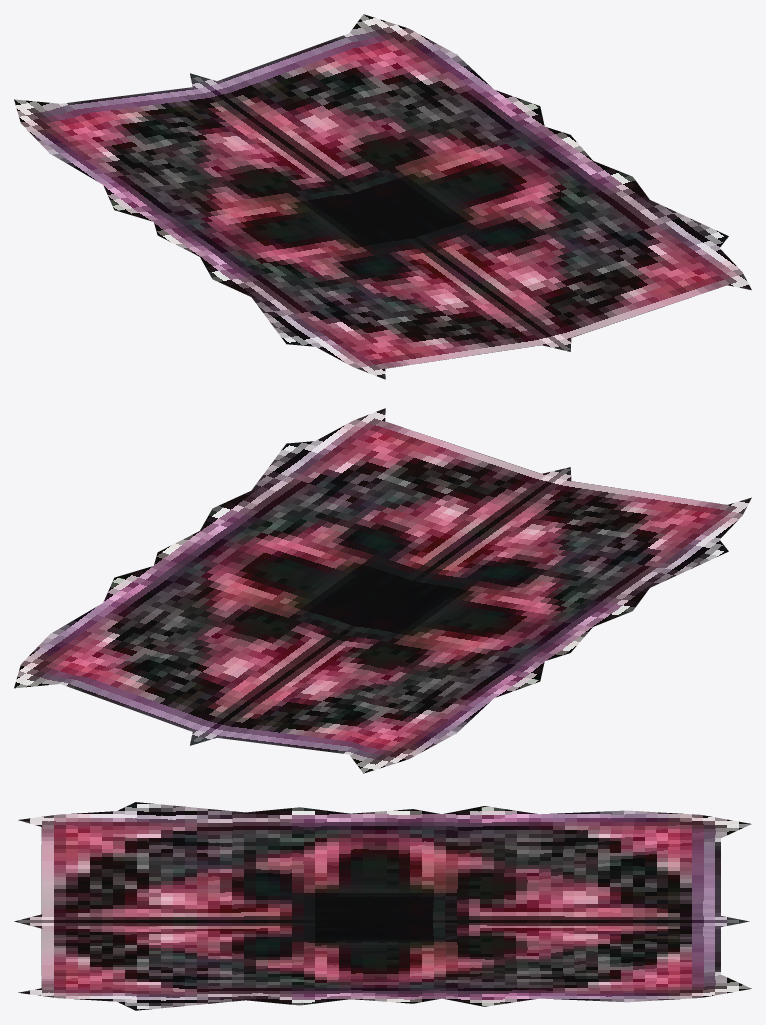
File: LuckyCardred.glb
The picture shows the model from 3 angles, top to bottom: view 1: azimuth 30°, elevation 25°; view 2: azimuth 150°, elevation 25°; view 3: azimuth 270°, elevation 25°; orthographic projection. The views are drawn at different scales.
Visible parts, largest first — view 1: model_LuckyCardred; view 2: model_LuckyCardred; view 3: model_LuckyCardred.
Part boxes in pixels (x1,y1,x2,y2): model_LuckyCardred: (14,14,751,379); model_LuckyCardred: (14,408,751,773); model_LuckyCardred: (14,802,751,1010).
Bounding box in the file's own units: 0.7 × 0.0239 × 1.05.
Materials: 1 (1 with a texture image).
